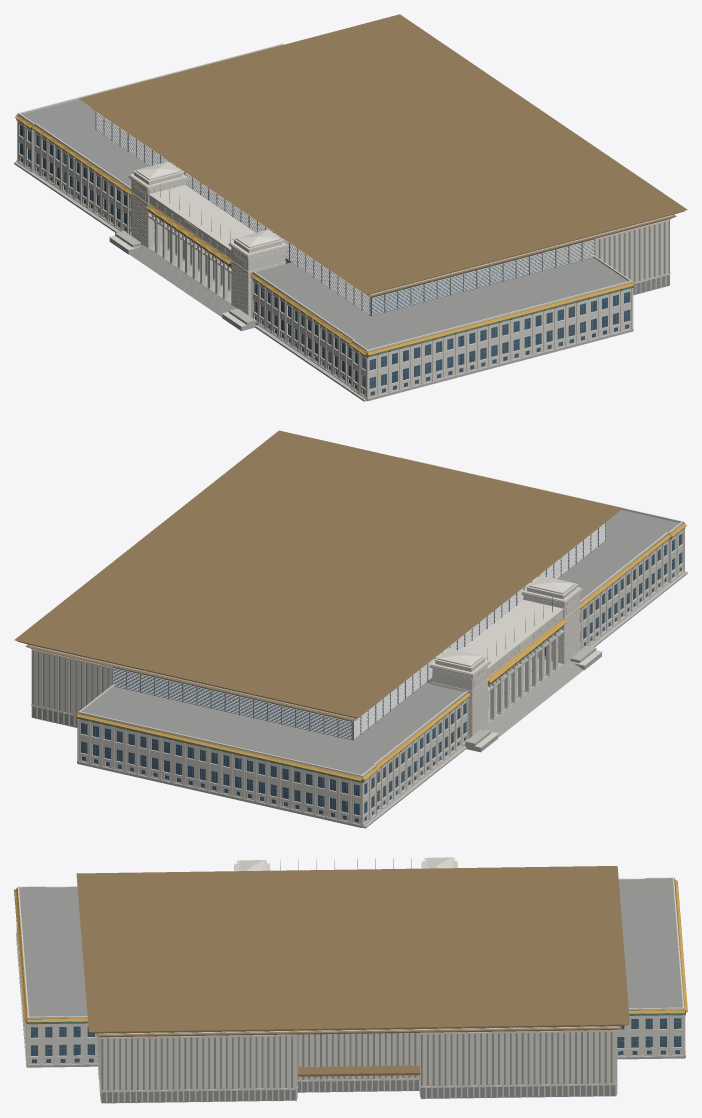
Rendered from national-museum.glb.
3 views of the same model, one above another, from view 1: azimuth 30°, elevation 25°; view 2: azimuth 150°, elevation 25°; view 3: azimuth 270°, elevation 25° (orthographic). The views are drawn at different scales.
Visible parts, largest first — view 1: national-museum; view 2: national-museum; view 3: national-museum.
Part boxes in pixels (x1,y1,x2,y2): national-museum: [14, 14, 687, 401]; national-museum: [14, 430, 687, 828]; national-museum: [14, 857, 687, 1103].
Bounding box in the file's own units: 222 × 42.5 × 337.
